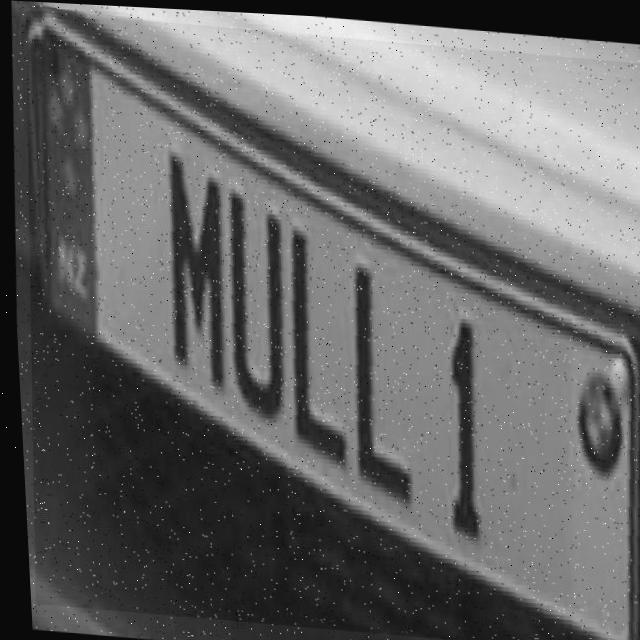LicensePlate: (4, 8, 640, 640)
